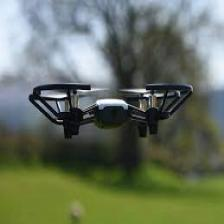drone: (29, 82, 193, 135)
